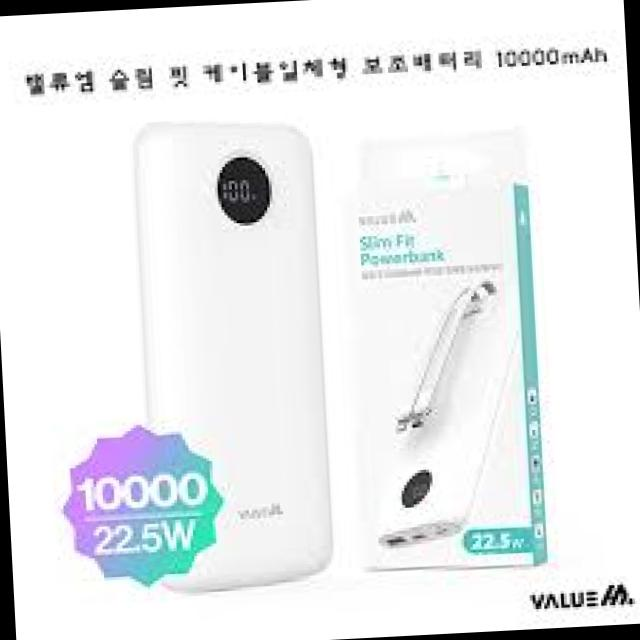portable-charger: (127, 112, 337, 593), (369, 273, 516, 545)
